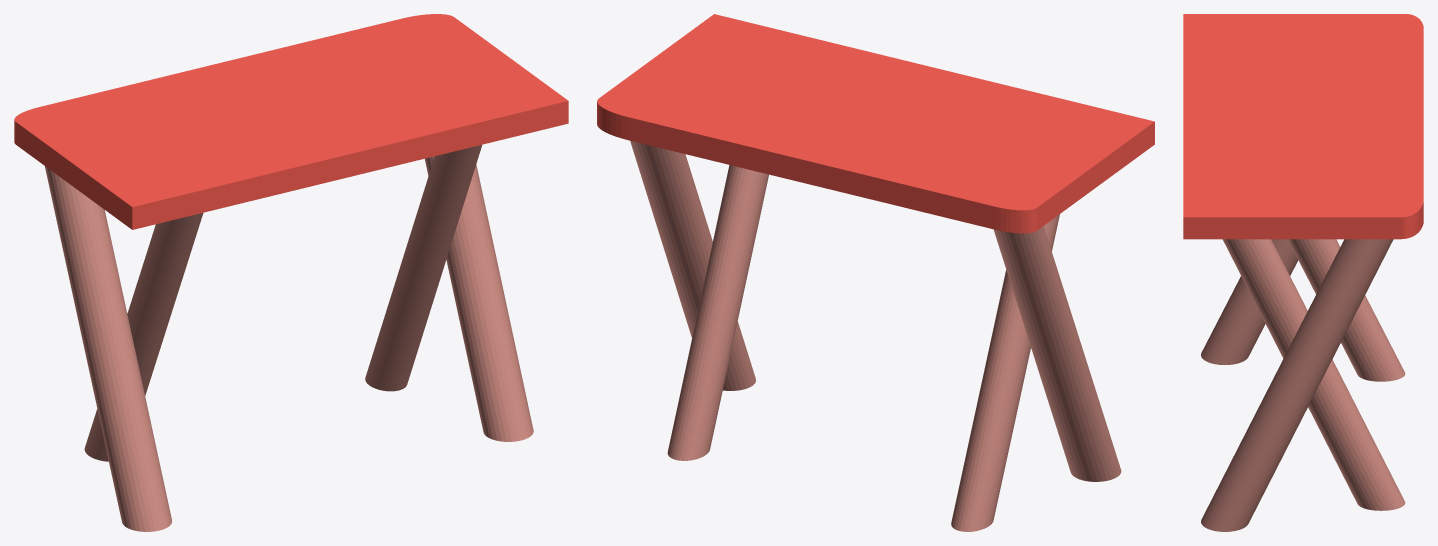
File: Desk.fbx
The picture shows the model from 3 angles, left to right: view 1: azimuth 30°, elevation 25°; view 2: azimuth 150°, elevation 25°; view 3: azimuth 270°, elevation 25°; orthographic projection. The views are drawn at different scales.
Visible parts, largest first — view 1: TableTop, TableLeg3, TableLeg2, TableLeg1, TableLeg; view 2: TableTop, TableLeg3, TableLeg1, TableLeg, TableLeg2; view 3: TableTop, TableLeg2, TableLeg1, TableLeg, TableLeg3.
Boxes of the visible parts, x1=… form: TableTop: x1=14, y1=14, x2=568, y2=229; TableLeg3: x1=45, y1=166, x2=171, y2=531; TableLeg2: x1=425, y1=156, x2=533, y2=441; TableLeg1: x1=365, y1=145, x2=482, y2=391; TableLeg: x1=84, y1=212, x2=203, y2=461; TableTop: x1=597, y1=14, x2=1154, y2=233; TableLeg3: x1=993, y1=226, x2=1121, y2=481; TableLeg1: x1=667, y1=165, x2=768, y2=460; TableLeg: x1=951, y1=214, x2=1059, y2=531; TableLeg2: x1=630, y1=140, x2=755, y2=390; TableTop: x1=1183, y1=14, x2=1423, y2=239; TableLeg2: x1=1201, y1=239, x2=1393, y2=531; TableLeg1: x1=1222, y1=239, x2=1405, y2=510; TableLeg: x1=1288, y1=239, x2=1405, y2=381; TableLeg3: x1=1201, y1=239, x2=1298, y2=364.
Bounding box in the file's own units: 10000 × 20000 × 14857.
